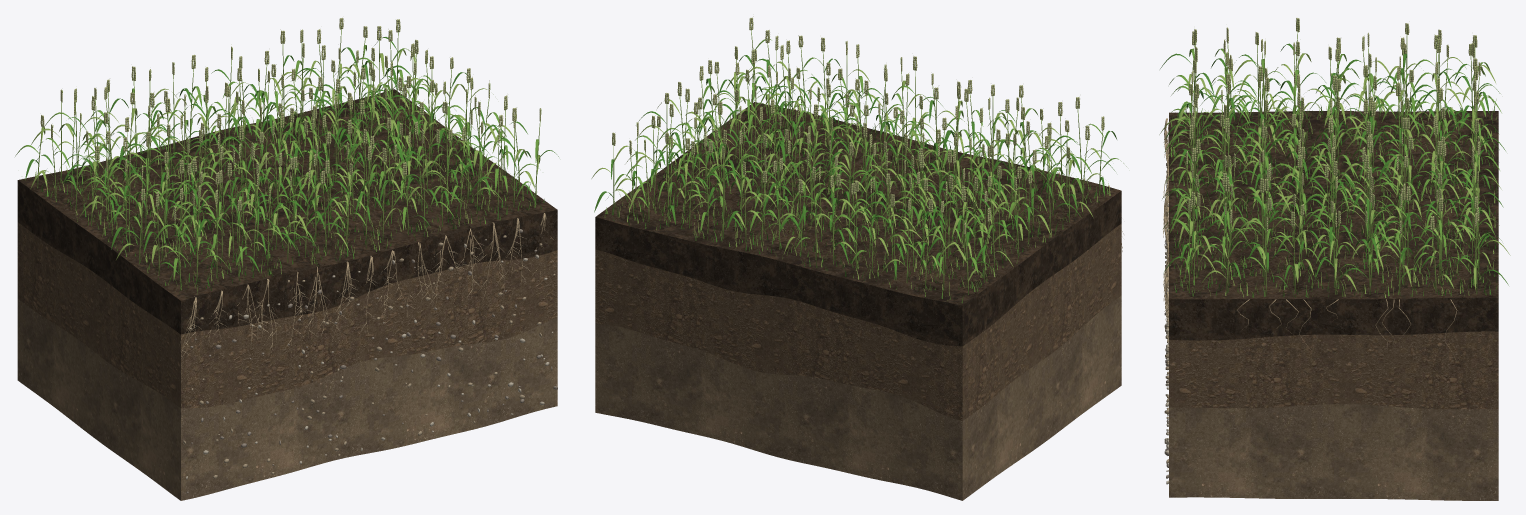
File: root-zone-v2.glb
3 renders of one model, left to right at view 1: azimuth 30°, elevation 25°; view 2: azimuth 150°, elevation 25°; view 3: azimuth 270°, elevation 25°, orthographic. The views are drawn at different scales.
Parts seen in each view (by area): view 1: Layer_Topsoil, Layer_Parent, Layer_Subsoil, Surface_Leaves, Surface_Stalks, Surface_Grass, Surface_Grain, Roots_Illustrative_Fibrous, Soil_Aggregates, Roots_Fine_Laterals; view 2: Layer_Topsoil, Layer_Parent, Layer_Subsoil, Surface_Leaves, Surface_Stalks, Surface_Grass, Surface_Grain; view 3: Layer_Topsoil, Layer_Parent, Surface_Leaves, Layer_Subsoil, Surface_Stalks, Surface_Grass, Surface_Grain, Roots_Illustrative_Fibrous, Soil_Aggregates, Roots_Right_Section.
Boxes of the visible parts, x1,y1,x2,y2 form: Layer_Topsoil: [17, 89, 557, 334]; Layer_Parent: [17, 298, 557, 500]; Layer_Subsoil: [17, 222, 557, 408]; Surface_Leaves: [15, 37, 558, 280]; Surface_Stalks: [37, 25, 541, 289]; Surface_Grass: [35, 87, 544, 293]; Surface_Grain: [40, 17, 540, 220]; Roots_Illustrative_Fibrous: [180, 213, 553, 366]; Soil_Aggregates: [183, 229, 557, 493]; Roots_Fine_Laterals: [181, 235, 553, 355]; Layer_Topsoil: [595, 102, 1121, 346]; Layer_Parent: [595, 295, 1121, 500]; Layer_Subsoil: [595, 223, 1121, 420]; Surface_Leaves: [591, 39, 1126, 280]; Surface_Stalks: [613, 26, 1103, 294]; Surface_Grass: [604, 104, 1110, 303]; Surface_Grain: [612, 17, 1104, 234]; Layer_Topsoil: [1169, 111, 1498, 340]; Layer_Parent: [1169, 404, 1498, 500]; Surface_Leaves: [1159, 43, 1510, 290]; Layer_Subsoil: [1169, 331, 1498, 409]; Surface_Stalks: [1187, 19, 1479, 296]; Surface_Grass: [1170, 99, 1498, 297]; Surface_Grain: [1186, 18, 1480, 233]; Roots_Illustrative_Fibrous: [1164, 118, 1171, 357]; Soil_Aggregates: [1164, 146, 1168, 484]; Roots_Right_Section: [1237, 299, 1457, 361].
Bounding box in the file's own units: 4.45 × 3.08 × 3.21.
Materials: 14 (3 with a texture image).
